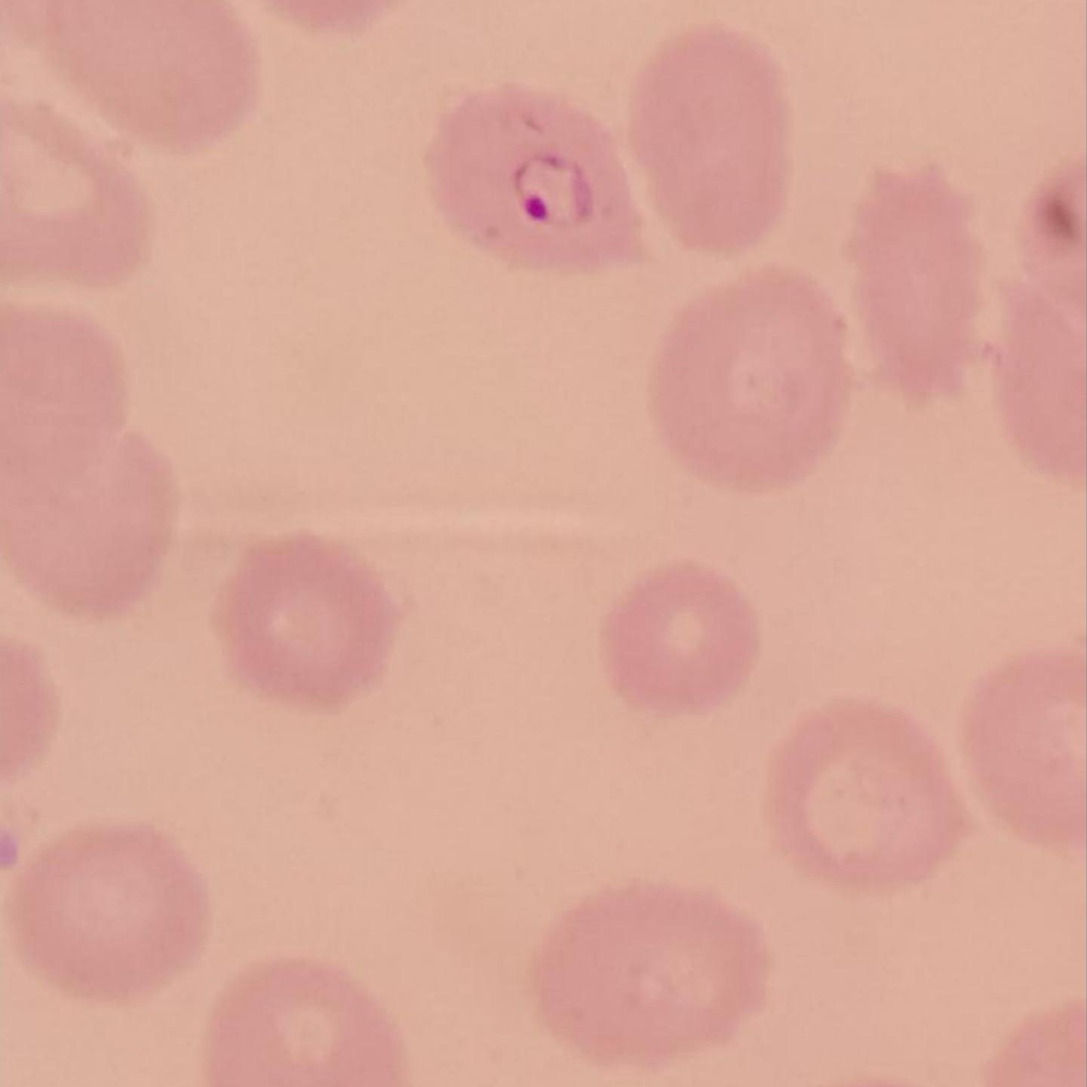Infected: (424, 89, 650, 279)
Uninfected: (651, 268, 849, 490), (532, 881, 766, 1063), (766, 700, 971, 893), (628, 23, 794, 256), (847, 157, 991, 410), (13, 819, 209, 1001), (45, 0, 260, 151), (0, 423, 168, 615), (221, 530, 397, 704), (200, 951, 413, 1087), (0, 102, 153, 285), (964, 647, 1087, 852), (602, 560, 761, 716), (0, 308, 130, 480)
